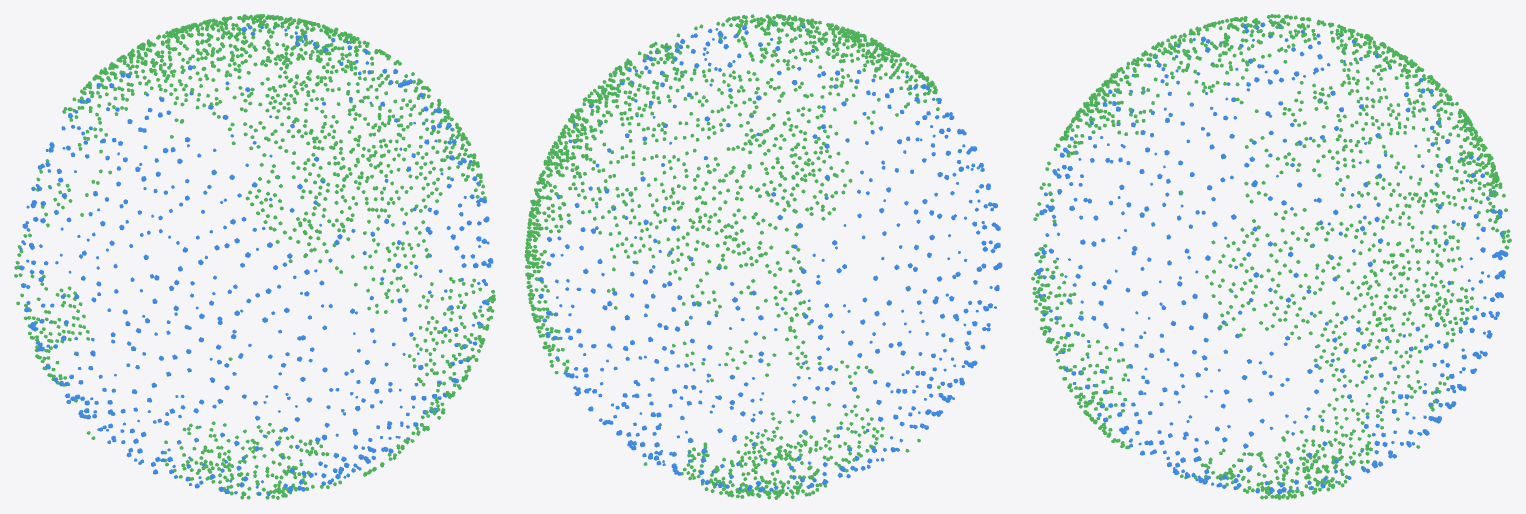
File: MidResEarth.glb
3 views of the same model, side by side, from view 1: azimuth 30°, elevation 25°; view 2: azimuth 150°, elevation 25°; view 3: azimuth 270°, elevation 25° (orthographic).
Bounding box in the file's own units: 1.62 × 1.66 × 1.64.
